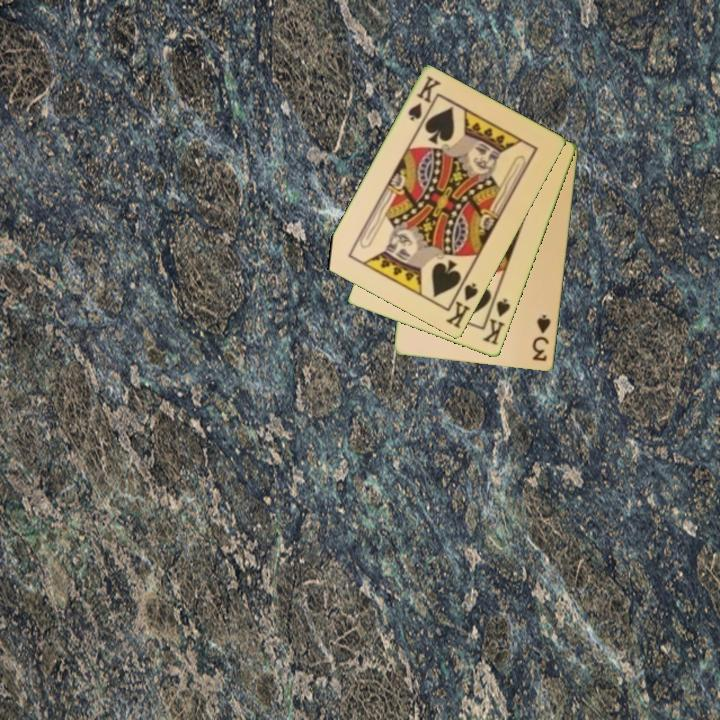3s: (529, 311, 554, 364)
Ks: (442, 274, 481, 332), (405, 72, 444, 124), (479, 292, 513, 348)
